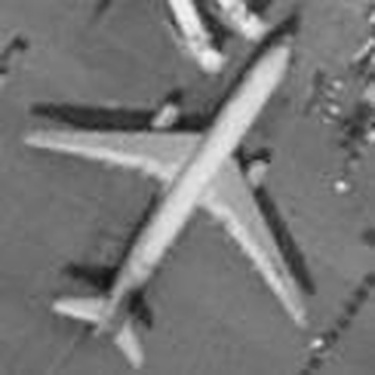airplane: (18, 22, 330, 373)
